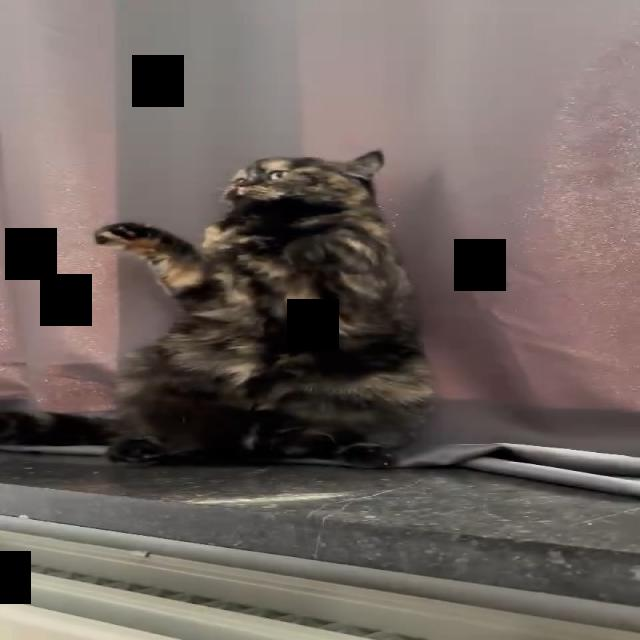authorized: (3, 148, 437, 468)
